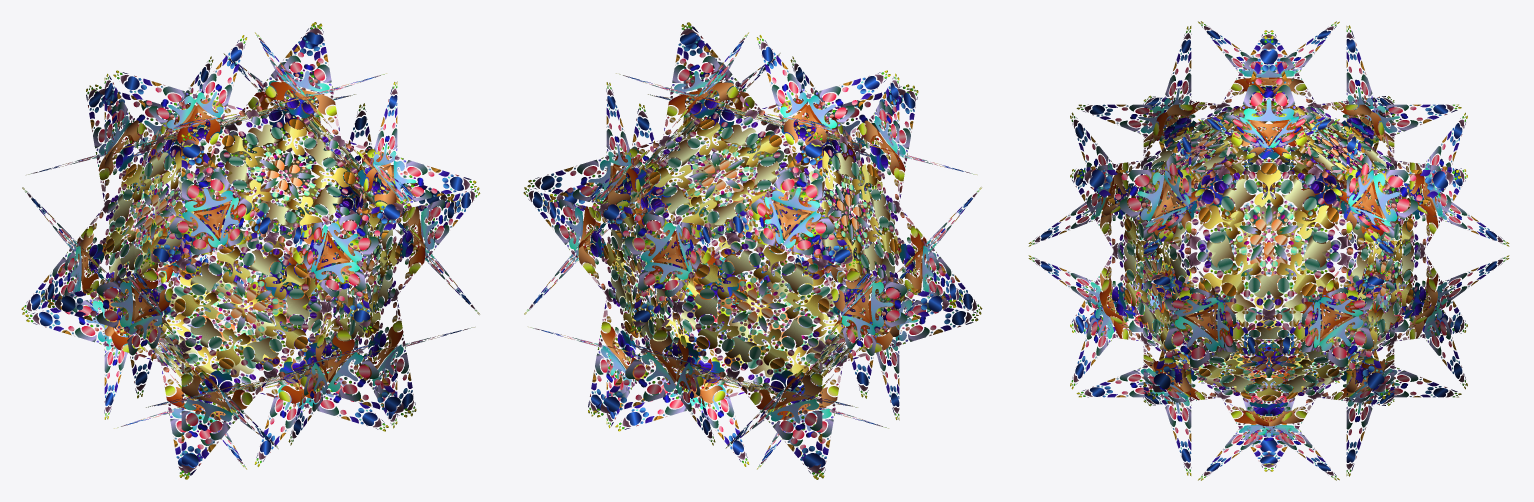
The model's file is GreatIcosidodecahedron5.gltf.
3 views of the same model, side by side, from view 1: azimuth 30°, elevation 25°; view 2: azimuth 150°, elevation 25°; view 3: azimuth 270°, elevation 25° (orthographic).
Parts seen in each view (by area): view 1: GreatIcosidodecahedron5; view 2: GreatIcosidodecahedron5; view 3: GreatIcosidodecahedron5.
Part boxes in pixels (x1,y1,x2,y2): GreatIcosidodecahedron5: (21,22,480,479); GreatIcosidodecahedron5: (523,22,982,479); GreatIcosidodecahedron5: (1028,21,1509,480).
Bounding box in the file's own units: 1.24 × 1.24 × 1.24.
Materials: 1 (1 with a texture image).
